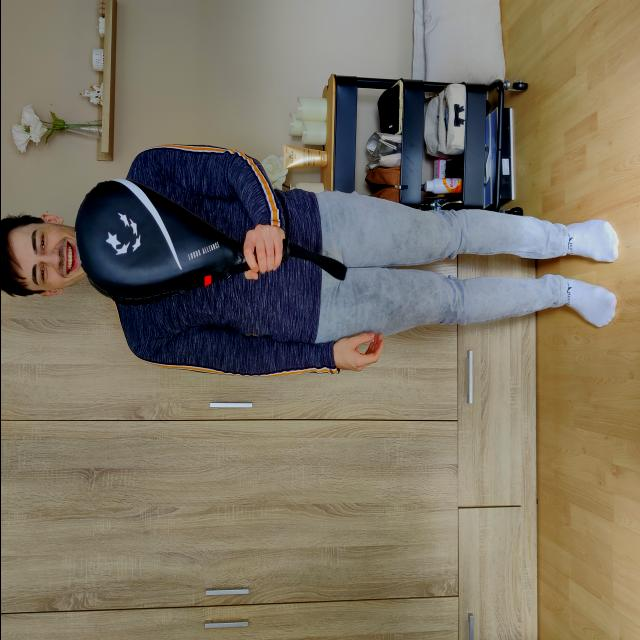paddle: (71, 176, 247, 304)
